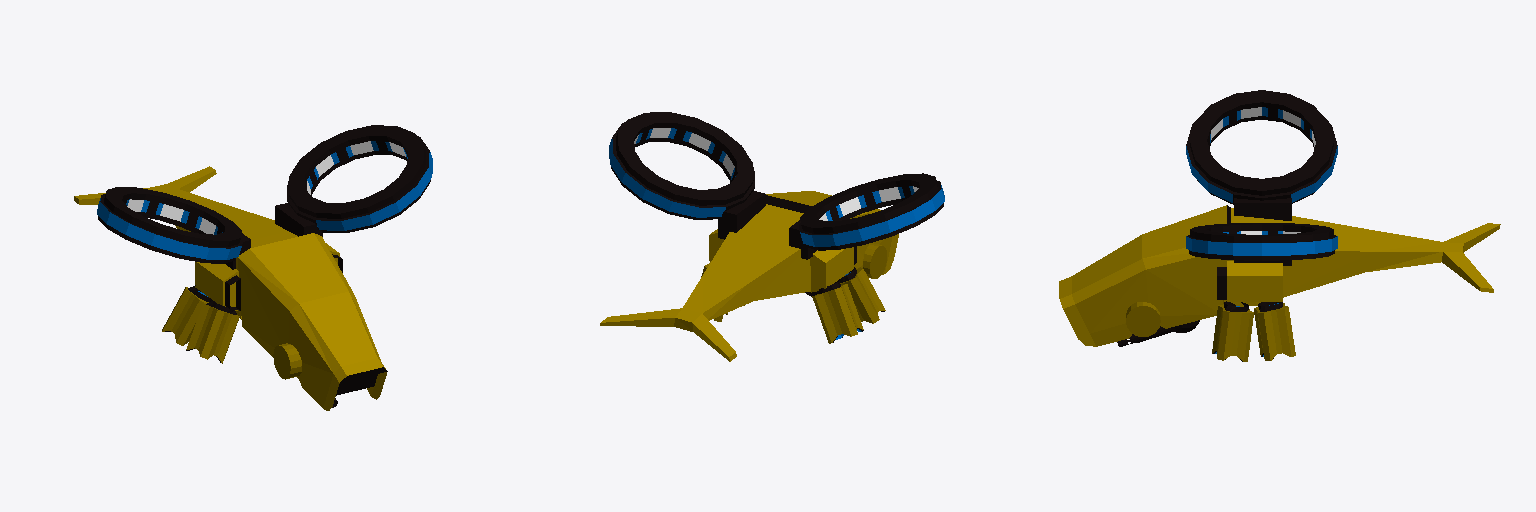
The model's file is dron.obj.
3 renders of one model, left to right at view 1: azimuth 30°, elevation 25°; view 2: azimuth 150°, elevation 25°; view 3: azimuth 270°, elevation 25°, orthographic.
Visible parts, largest first — view 1: Cube_Mat.4_0, Tube_1_Mat.2_0, Tube_Mat.2_0, Cube_1_Mat.4_0, Tube_Mat.3_0, Cylinder_3_Mat.5_0, Tube_1_Mat.3_0, Cube_3_Mat.4_0, Cylinder_2_Mat.5_0, Cube_2_2_Mat.2_0, Cylinder_2_2_Mat.5_0, Cube_Mat.2_0 (+2 smaller); view 2: Cube_1_Mat.4_0, Tube_1_Mat.2_0, Tube_Mat.2_0, Tube_Mat.3_0, Cylinder_2_Mat.5_0, Tube_1_Mat.3_0, Cube_3_Mat.4_0, Cylinder_3_Mat.5_0, Cube_Mat.4_0, Cube_2_2_Mat.2_0, Cylinder_2_2_Mat.5_0, Tube_1_Mat.1_0 (+1 smaller); view 3: Cube_Mat.4_0, Cube_1_Mat.4_0, Tube_Mat.2_0, Tube_1_Mat.2_0, Cube_2_Mat.4_0, Tube_1_Mat.3_0, Cylinder_Mat.5_0, Cylinder_1_Mat.5_0, Cube_1_2_Mat.2_0, Tube_Mat.3_0, Cylinder_2_2_Mat.5_0.
Part boxes in pixels (left/top/right/bottom): Cube_Mat.4_0: left=238, top=233, right=386, bottom=410; Tube_1_Mat.2_0: left=287, top=125, right=430, bottom=232; Tube_Mat.2_0: left=98, top=187, right=242, bottom=263; Cube_1_Mat.4_0: left=74, top=166, right=297, bottom=319; Tube_Mat.3_0: left=97, top=198, right=241, bottom=259; Cylinder_3_Mat.5_0: left=186, top=303, right=239, bottom=363; Tube_1_Mat.3_0: left=307, top=141, right=432, bottom=230; Cube_3_Mat.4_0: left=195, top=262, right=238, bottom=310; Cylinder_2_Mat.5_0: left=162, top=287, right=208, bottom=345; Cube_2_2_Mat.2_0: left=275, top=203, right=322, bottom=236; Cylinder_2_2_Mat.5_0: left=273, top=343, right=301, bottom=379; Cube_Mat.2_0: left=336, top=367, right=387, bottom=395; Cube_1_Mat.4_0: left=600, top=204, right=810, bottom=361; Tube_1_Mat.2_0: left=611, top=112, right=754, bottom=219; Tube_Mat.2_0: left=799, top=173, right=943, bottom=250; Tube_Mat.3_0: left=800, top=185, right=944, bottom=246; Cylinder_2_Mat.5_0: left=812, top=284, right=863, bottom=343; Tube_1_Mat.3_0: left=609, top=128, right=735, bottom=217; Cube_3_Mat.4_0: left=810, top=247, right=853, bottom=292; Cylinder_3_Mat.5_0: left=840, top=267, right=885, bottom=323; Cube_Mat.4_0: left=766, top=191, right=898, bottom=274; Cube_2_2_Mat.2_0: left=718, top=191, right=765, bottom=239; Cylinder_2_2_Mat.5_0: left=863, top=243, right=886, bottom=278; Tube_1_Mat.1_0: left=634, top=128, right=734, bottom=175; Cube_Mat.4_0: left=1059, top=205, right=1228, bottom=346; Cube_1_Mat.4_0: left=1223, top=208, right=1500, bottom=306; Tube_Mat.2_0: left=1186, top=90, right=1337, bottom=204; Tube_1_Mat.2_0: left=1187, top=223, right=1336, bottom=260; Cube_2_Mat.4_0: left=1227, top=261, right=1282, bottom=301; Tube_1_Mat.3_0: left=1186, top=231, right=1337, bottom=255; Cylinder_Mat.5_0: left=1212, top=305, right=1253, bottom=361; Cylinder_1_Mat.5_0: left=1254, top=303, right=1295, bottom=360; Cube_1_2_Mat.2_0: left=1234, top=198, right=1291, bottom=220; Tube_Mat.3_0: left=1186, top=107, right=1337, bottom=202; Cylinder_2_2_Mat.5_0: left=1126, top=302, right=1160, bottom=336.
Bounding box in the file's own units: 14.06 × 7.87 × 16.94.